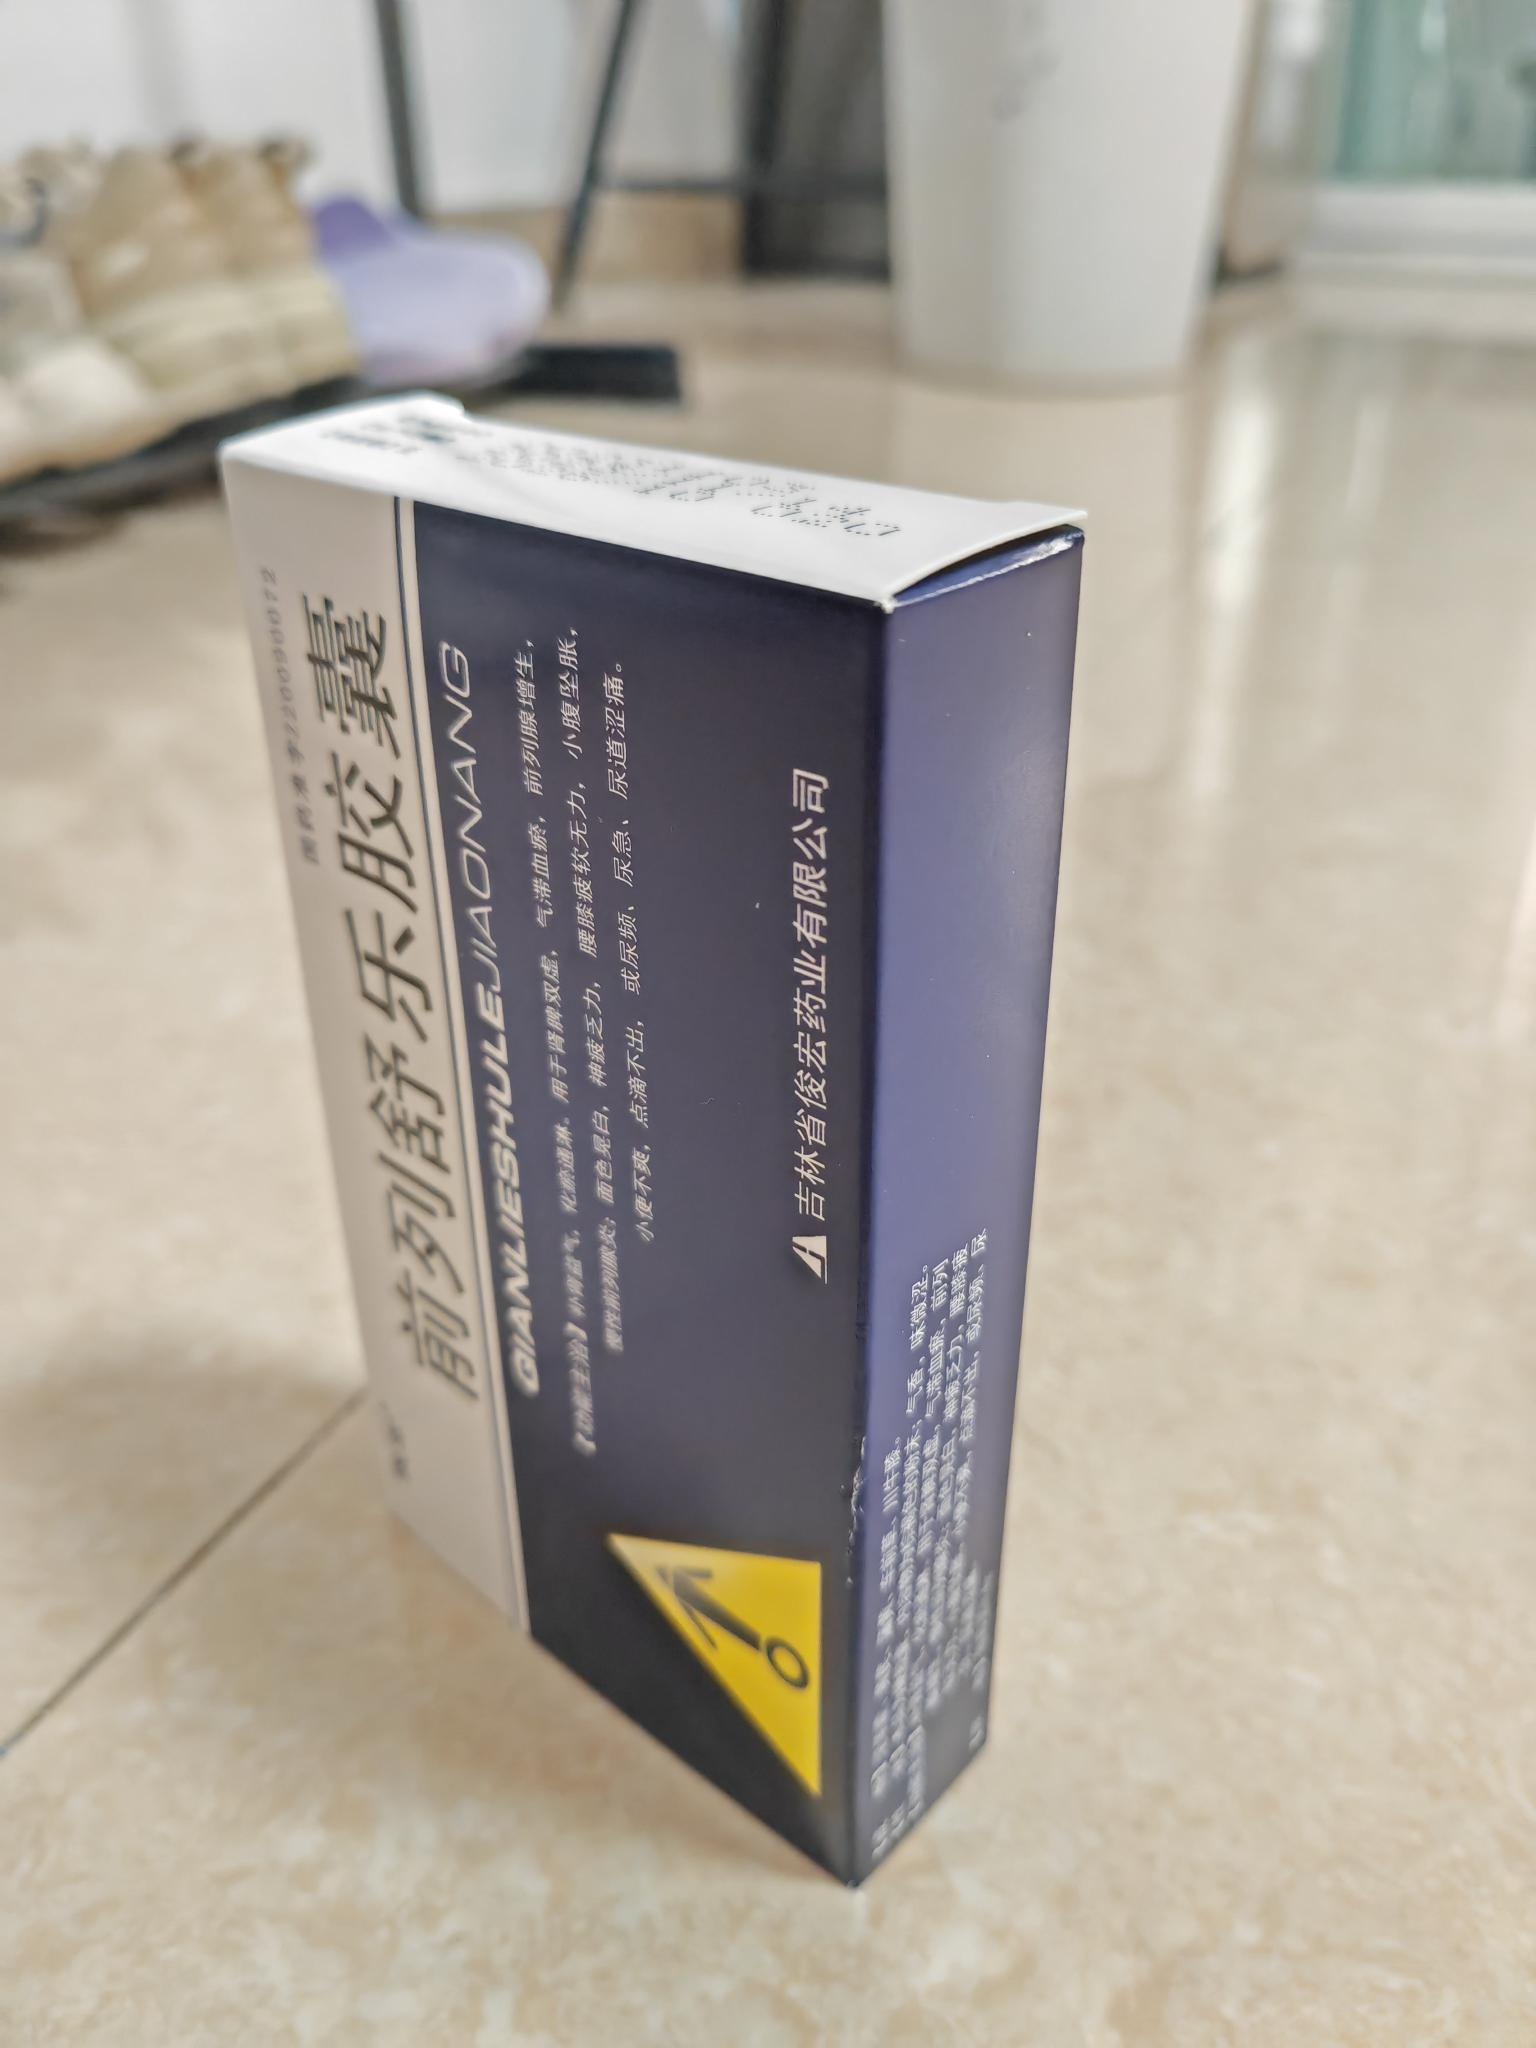Medicine2: (208, 379, 1105, 1904)
